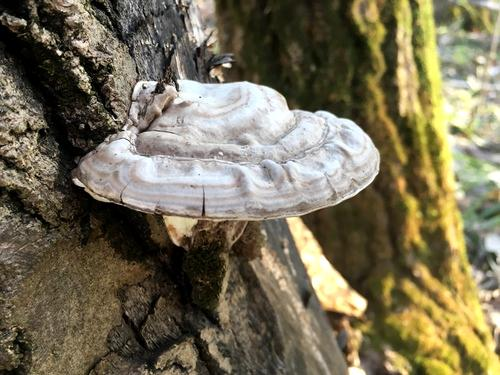Ganoderma - Fruit Body: (69, 75, 383, 221)
